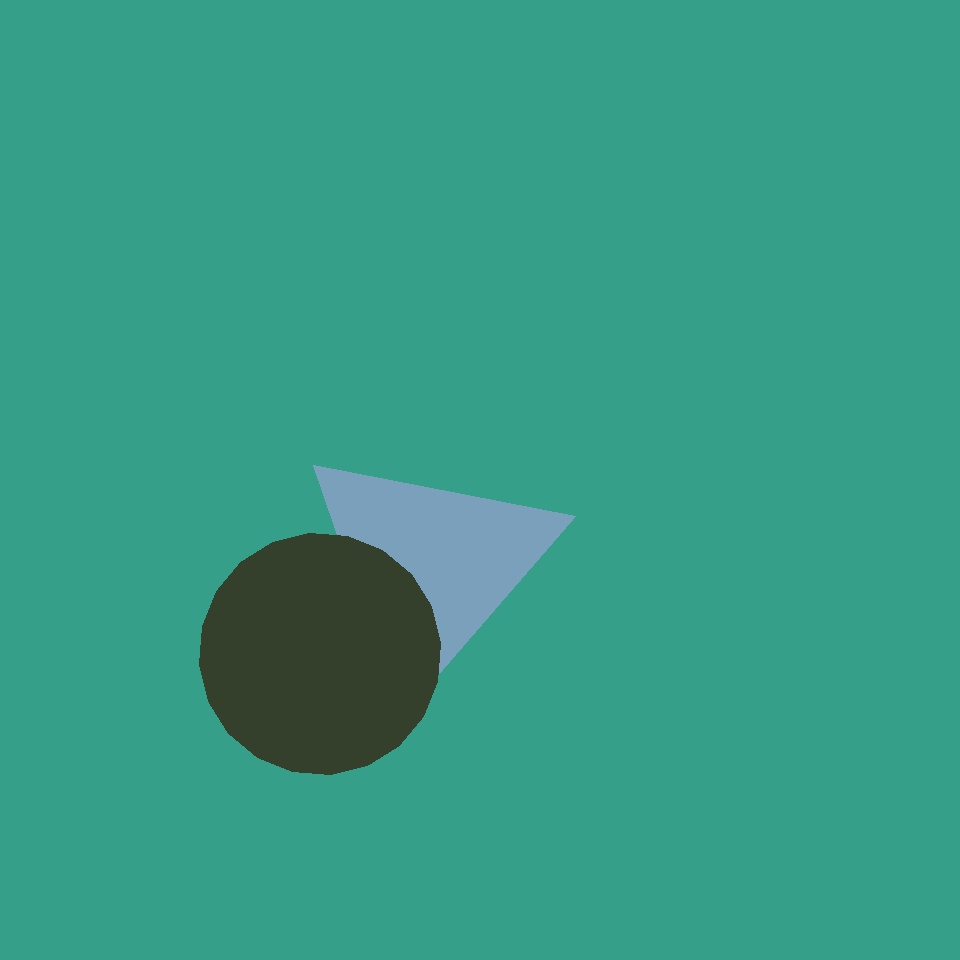circle: (241, 438, 550, 756), (299, 440, 561, 694)
square: (456, 669, 565, 779)
triangle: (617, 47, 949, 379), (199, 534, 440, 774)
